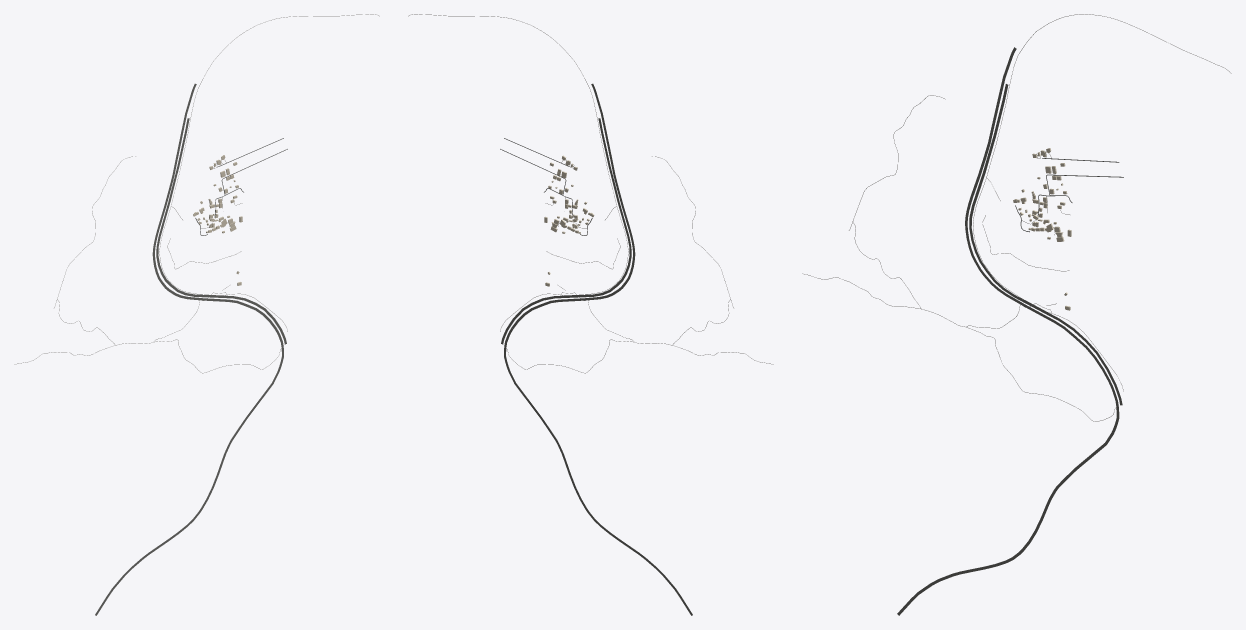
Rendered from historic-palestine-10_22_3515_3169.glb.
3 renders of one model, left to right at view 1: azimuth 30°, elevation 25°; view 2: azimuth 150°, elevation 25°; view 3: azimuth 330°, elevation 25°, orthographic. The views are drawn at different scales.
Parts seen in each view (by area): view 1: Road 60.001, Road 60; view 2: Road 60.001, Road 60; view 3: Road 60.001, Road 60.
Boxes of the visible parts, x1,y1,x2,y2 form: Road 60.001: (95,83,283,615); Road 60: (156,118,286,344); Road 60.001: (504,83,692,615); Road 60: (501,118,631,344); Road 60.001: (897,47,1119,615); Road 60: (969,84,1122,405).
Bounding box in the file's own units: 1993 × 2882 × 9.09.
